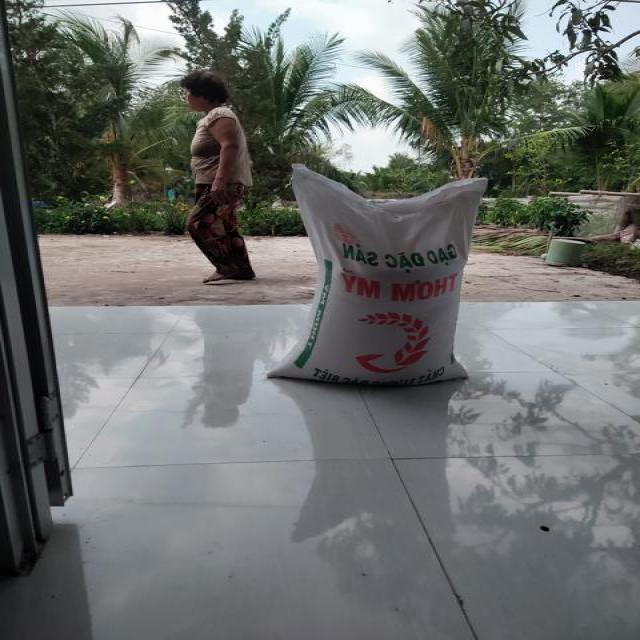gunny_bag: (268, 165, 487, 386)
